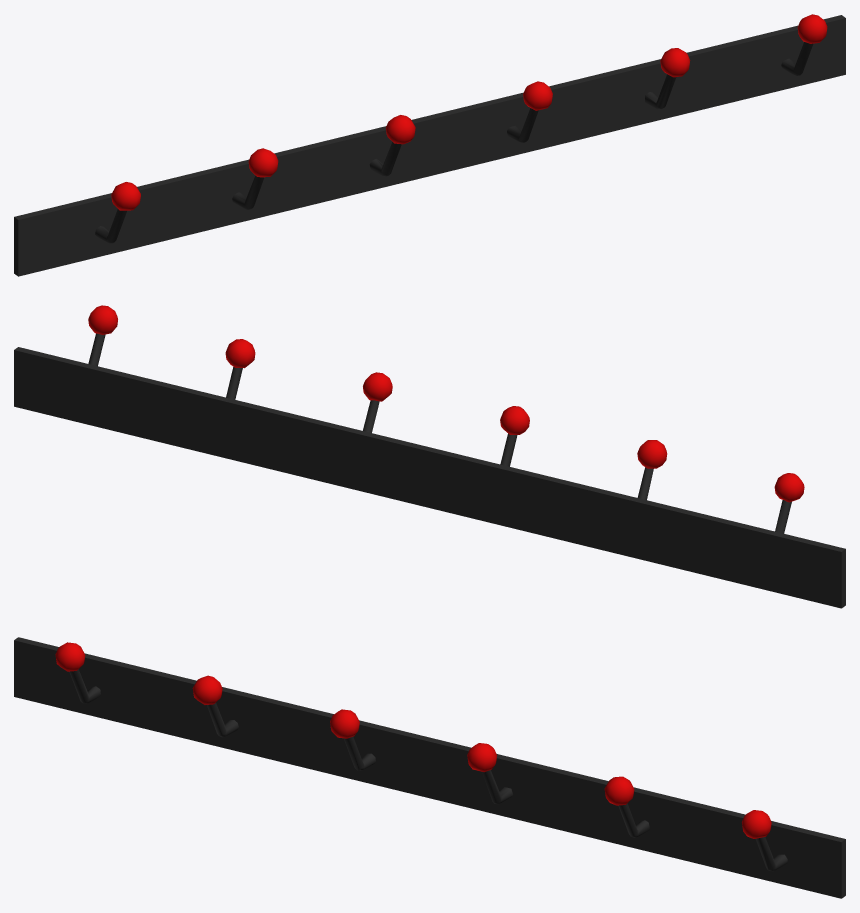
The model's file is Wall hanger.FBX.
3 views of the same model, one above another, from view 1: azimuth 30°, elevation 25°; view 2: azimuth 150°, elevation 25°; view 3: azimuth 330°, elevation 25° (orthographic).
Parts seen in each view (by area): view 1: wall hanger; view 2: wall hanger; view 3: wall hanger.
Boxes of the visible parts, x1,y1,x2,y2 form: wall hanger: [14, 14, 845, 276]; wall hanger: [14, 305, 845, 608]; wall hanger: [14, 637, 845, 898].
Bounding box in the file's own units: 118 × 12.62 × 9.28.
